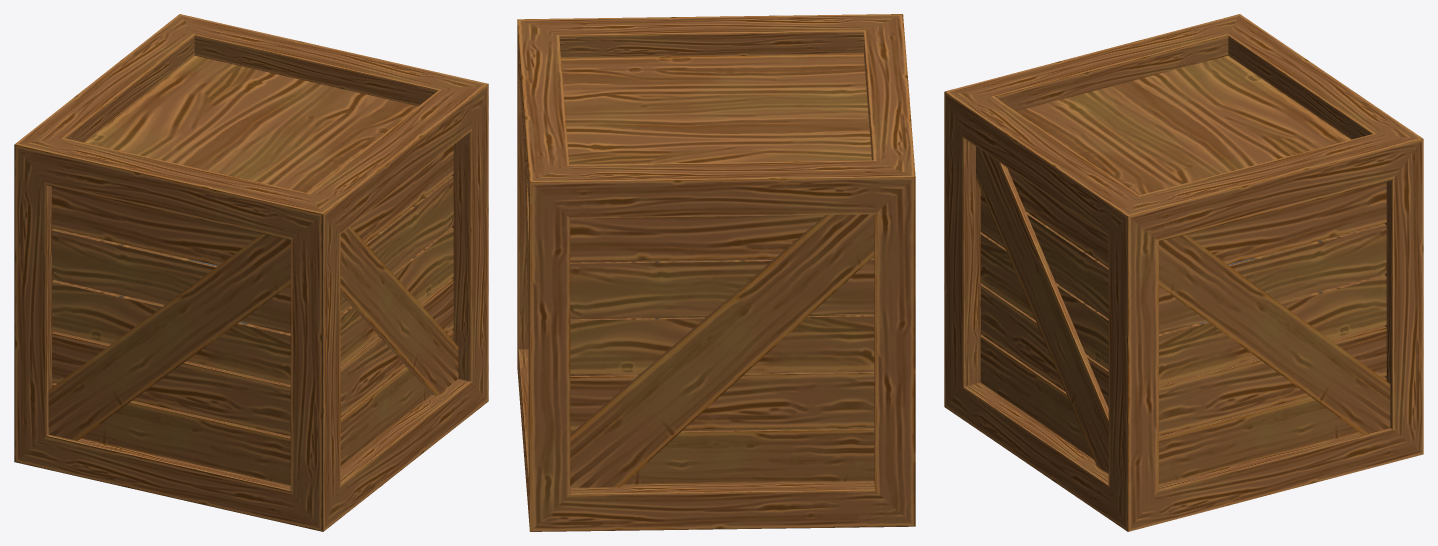
The picture shows the model from 3 angles, left to right: view 1: azimuth 30°, elevation 25°; view 2: azimuth 150°, elevation 25°; view 3: azimuth 270°, elevation 25°; orthographic projection. The views are drawn at different scales.
Parts seen in each view (by area): view 1: Cube.1932; view 2: Cube.1932; view 3: Cube.1932.
Boxes of the visible parts, x1=… form: Cube.1932: x1=14, y1=14, x2=488, y2=531; Cube.1932: x1=517, y1=14, x2=915, y2=531; Cube.1932: x1=944, y1=14, x2=1423, y2=531.
Size of the model in its own units: 183 by 133 by 183.
1 material, 1 textured.
